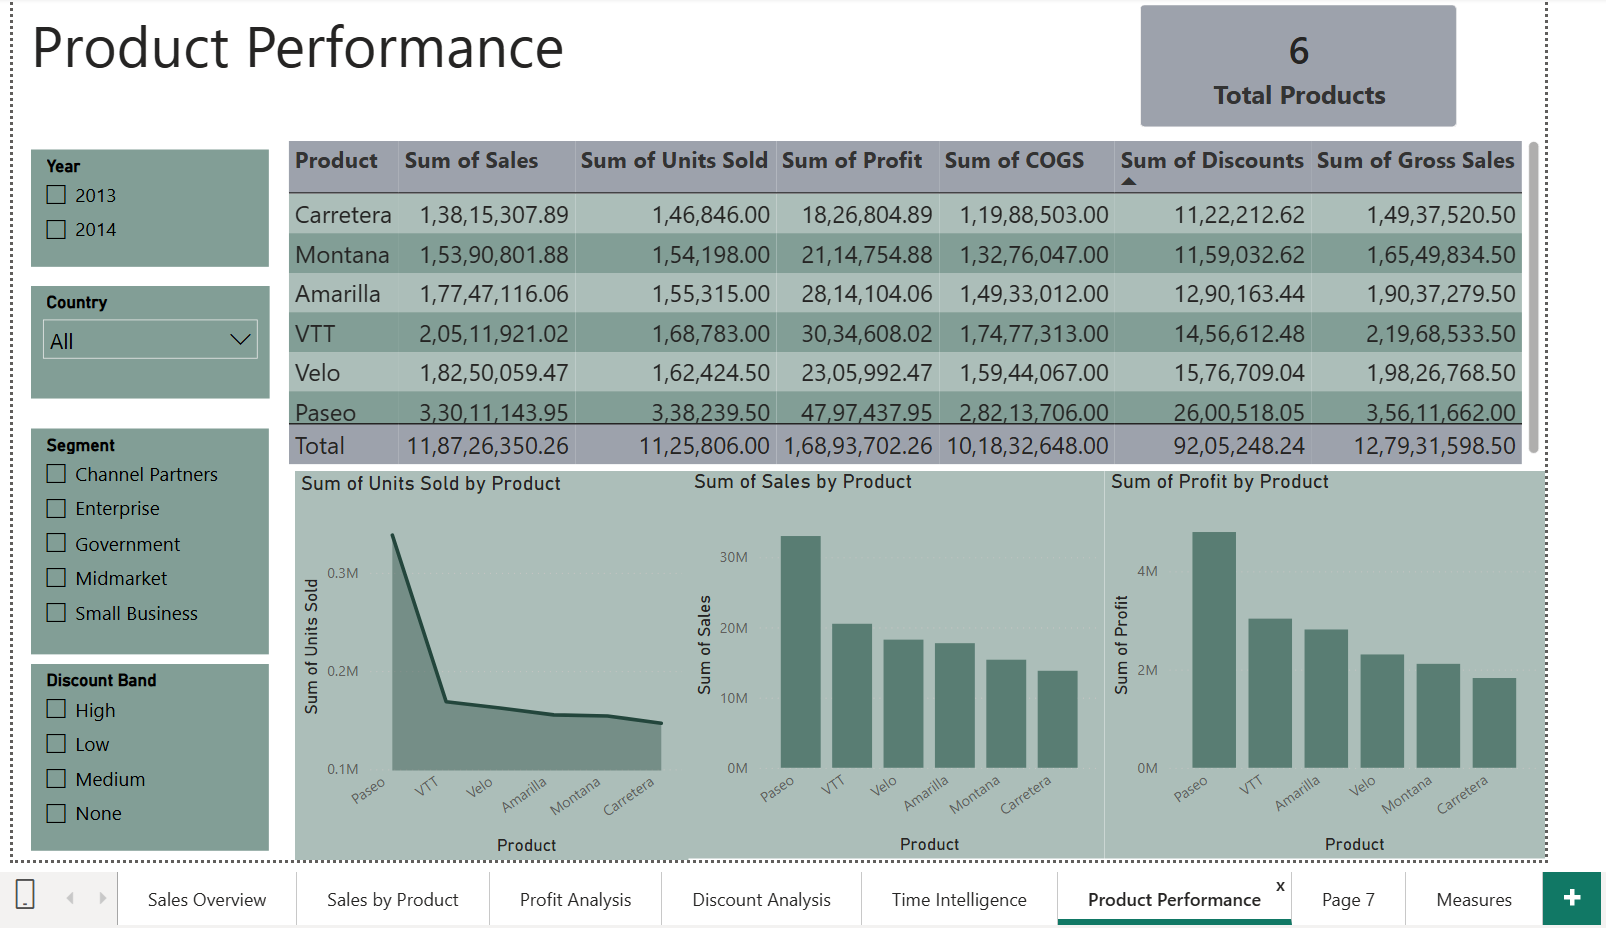

The page's visual inventory and layout, read from the dashboard file:
{"tool":"powerbi","page":{"name":"Product Performance","canvas":[1280,720],"ordinal":5},"visuals":[{"type":"textbox","box":[10,0,518,88],"z":0},{"type":"cardVisual","fields":{"Data":["Sheet1.Total Products"]},"box":[935.9,0,275.4,113.6],"z":1000},{"type":"clusteredColumnChart","fields":{"Category":["Sheet1.Product"],"Y":["Sum(Sheet1.Sales)"]},"box":[563.3,393.7,348.3,325.6],"z":2000},{"type":"clusteredColumnChart","fields":{"Category":["Sheet1.Product"],"Y":["Sum(Sheet1.Profit)"]},"box":[911.6,393.7,368,325.6],"z":3000},{"type":"areaChart","fields":{"Category":["Sheet1.Product"],"Y":["Sum(Sheet1.Units Sold)"]},"box":[234.9,394.8,328.6,325.6],"z":4000},{"type":"tableEx","fields":{"Values":["Sheet1.Product","Sum(Sheet1.Sales)","Sum(Sheet1.Units Sold)","Sum(Sheet1.Profit)","Sum(Sheet1.COGS)","Sum(Sheet1.Discounts)","Sum(Sheet1.Gross Sales)"]},"box":[224.1,113.6,1055.4,280.1],"z":5000},{"type":"slicer","fields":{"Values":["Sheet1.Date.Variation.Date Hierarchy.Year"]},"box":[15.4,127.1,198.4,98.2],"z":7000},{"type":"slicer","fields":{"Values":["Sheet1.Country"]},"box":[15.4,240.7,199.2,93.9],"z":8000},{"type":"slicer","fields":{"Values":["Sheet1.Segment"]},"box":[15.4,360.1,198.4,188.7],"z":9000},{"type":"slicer","fields":{"Values":["financials.Discount Band"]},"box":[15.4,556.6,198.4,156],"z":10000}]}

Visuals, with their boxes on the page's 1280x720 design canvas (x1, y1, x2, y2). These are canvas units, not pixel positions in the 1606x928 screenshot, which may show the page scaled, cropped or inside an application window:
textbox: [10, 0, 528, 88]
cardVisual - Sheet1.Total Products: [936, 0, 1211, 114]
clusteredColumnChart - Sheet1.Product x Sum(Sheet1.Sales): [563, 394, 912, 719]
clusteredColumnChart - Sheet1.Product x Sum(Sheet1.Profit): [912, 394, 1280, 719]
areaChart - Sheet1.Product x Sum(Sheet1.Units Sold): [235, 395, 564, 720]
tableEx - Sheet1.Product x Sum(Sheet1.Sales): [224, 114, 1280, 394]
slicer - Sheet1.Date.Variation.Date Hierarchy.Year: [15, 127, 214, 225]
slicer - Sheet1.Country: [15, 241, 215, 335]
slicer - Sheet1.Segment: [15, 360, 214, 549]
slicer - financials.Discount Band: [15, 557, 214, 713]
